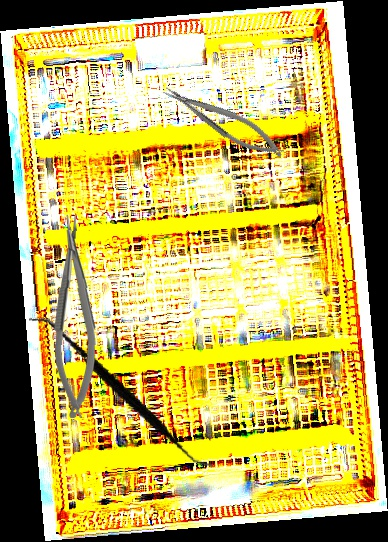Needle Holder: (159, 74, 289, 168), (52, 214, 99, 419)
Spatula Surgical: (9, 315, 233, 470)
